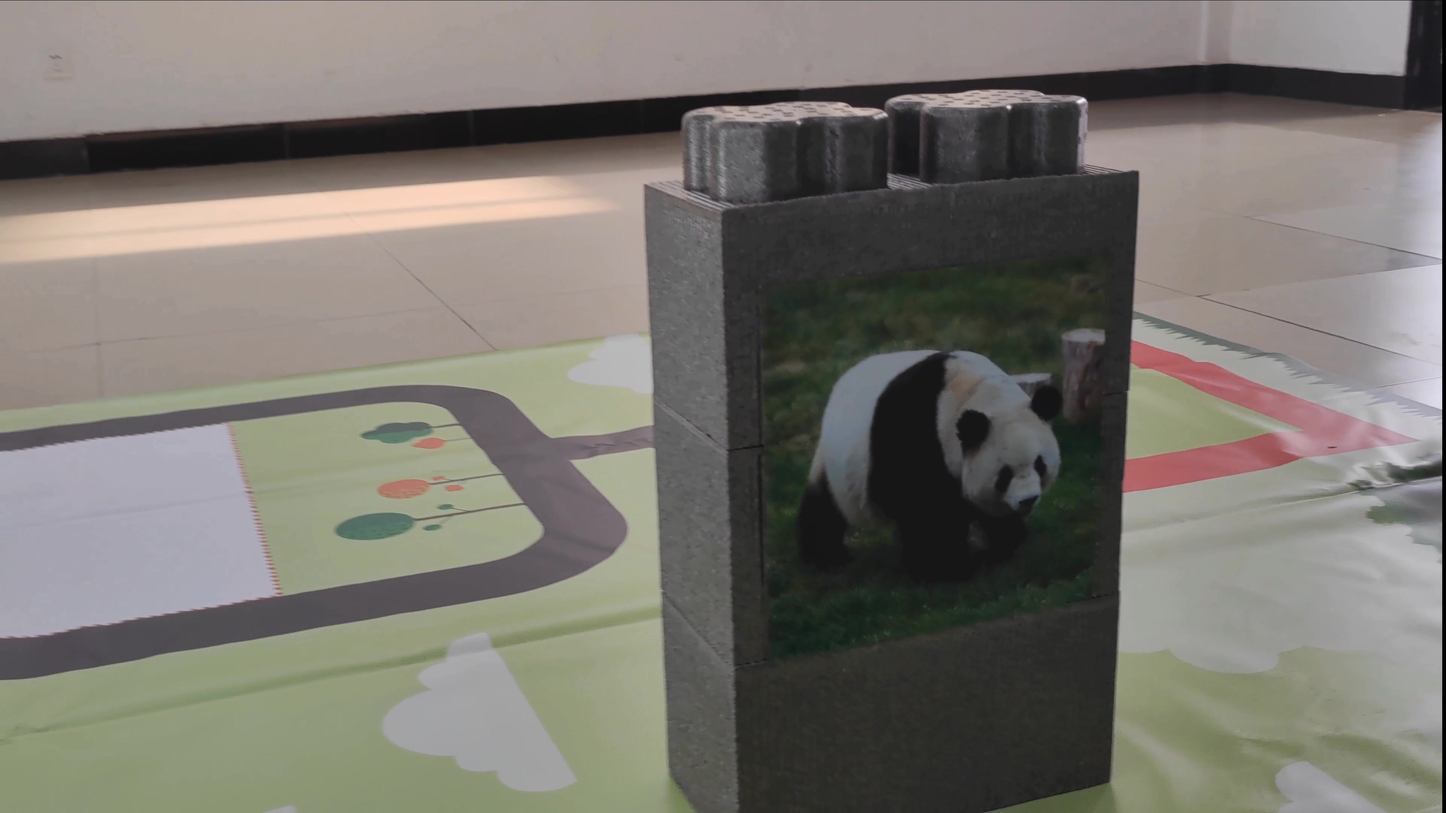panda: (795, 323, 1080, 594)
